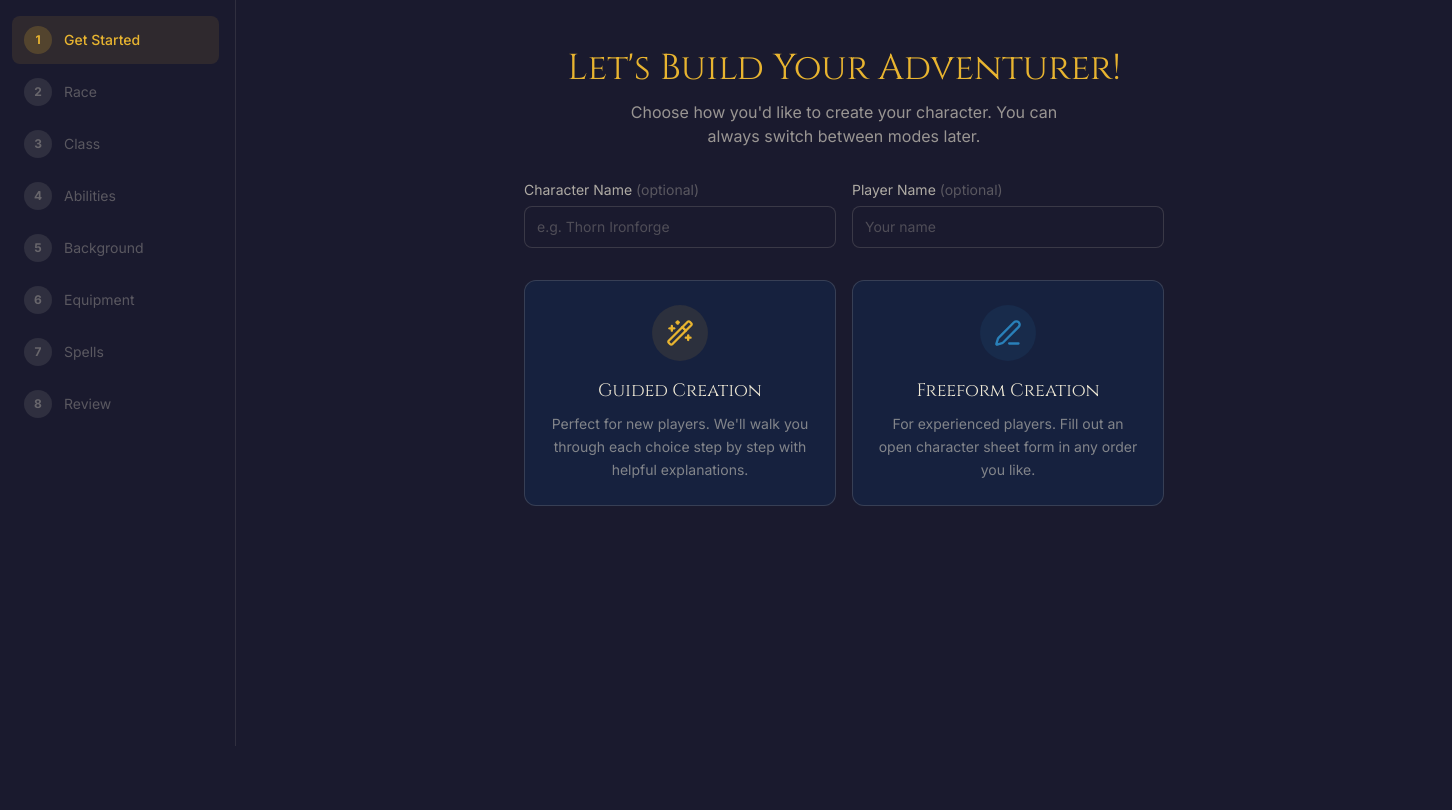
it: CreationWizard › switches to freeform mode when Freeform Creation is clicked
Click the heading "Freeform Creation". click: (1008, 391)
box: [916,377,1100,405]
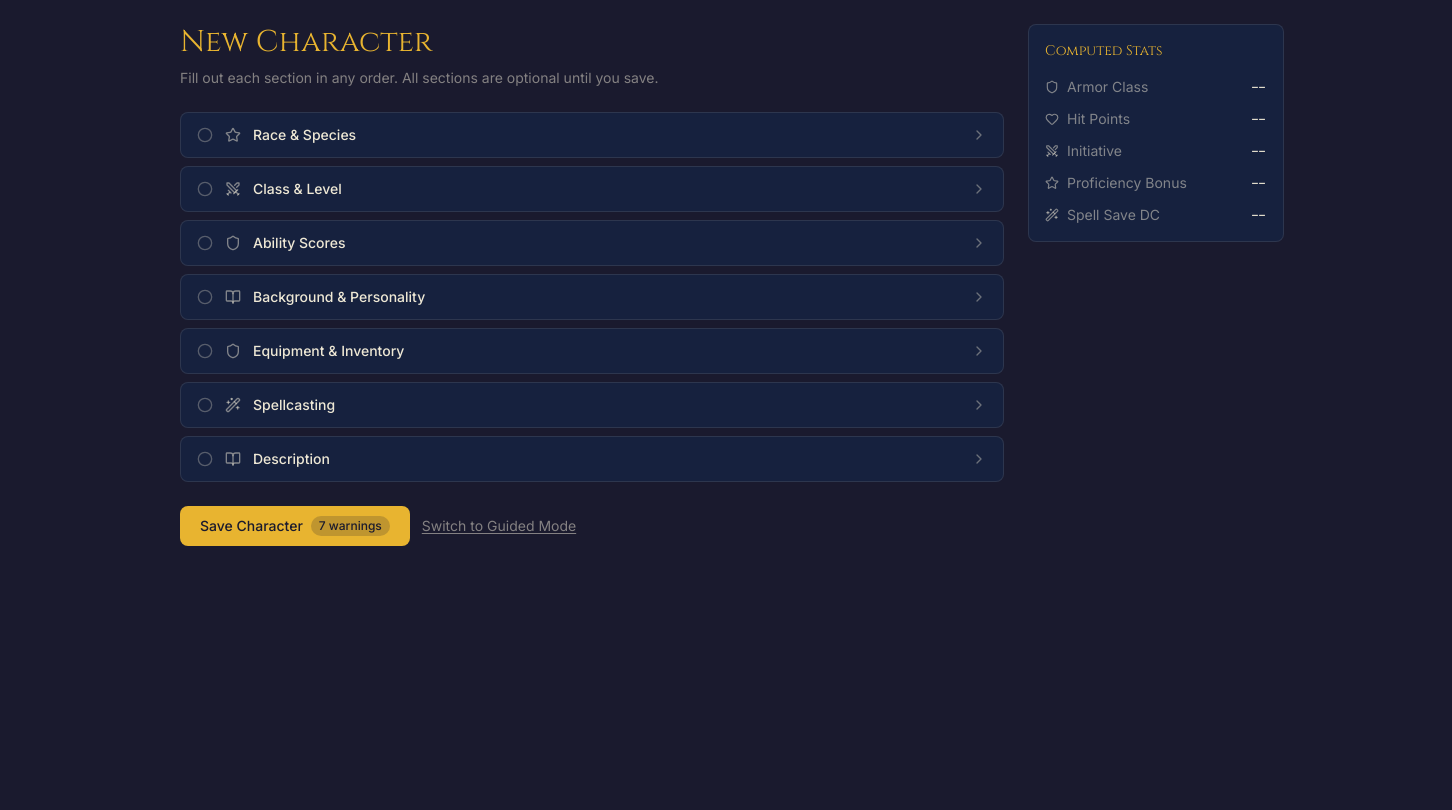
Check: the text "Race & Species" is shown, box [253,126,356,143]
